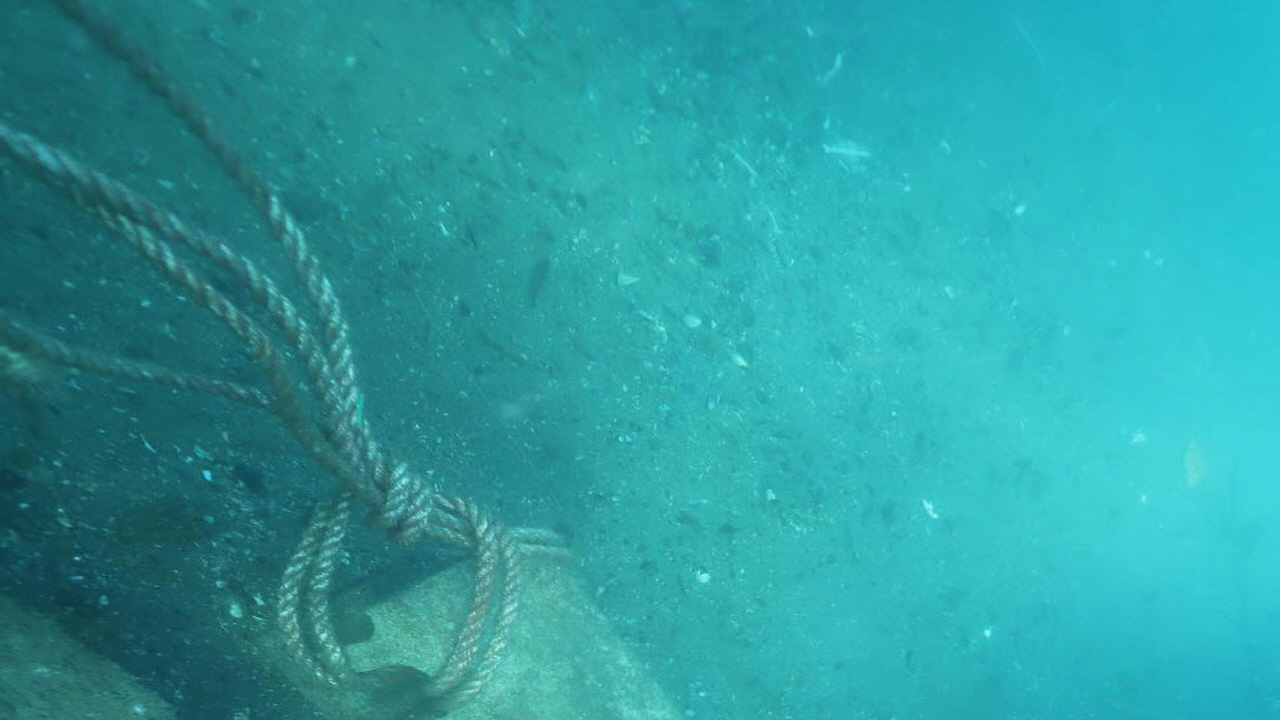bundle of ropes: (1, 1, 568, 720)
